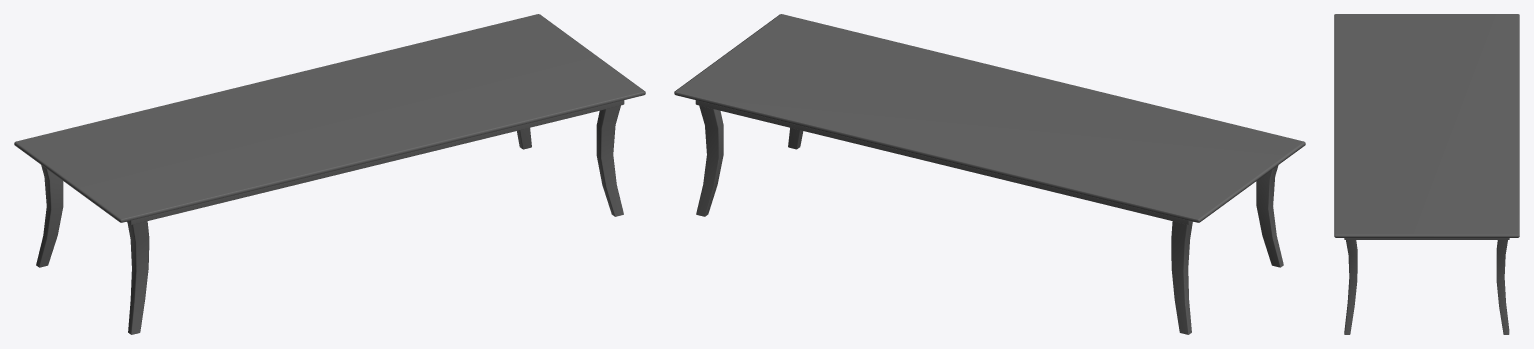
The model's file is Dining_Table_227_1_dining_table_227.obj.
The picture shows the model from 3 angles, left to right: view 1: azimuth 30°, elevation 25°; view 2: azimuth 150°, elevation 25°; view 3: azimuth 270°, elevation 25°; orthographic projection. The views are drawn at different scales.
Size of the model in its own units: 2.8 by 0.6312 by 0.9882.
